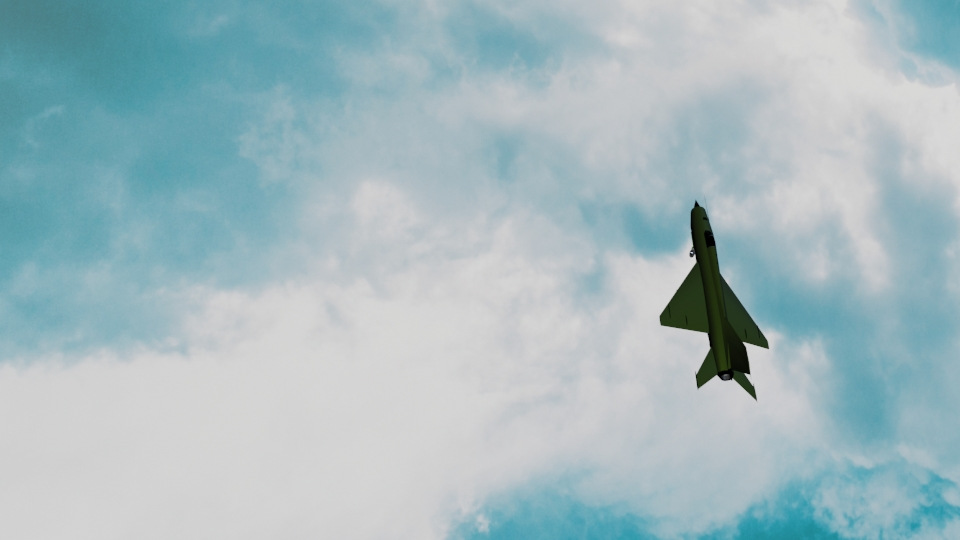plane: (657, 199, 771, 400)
